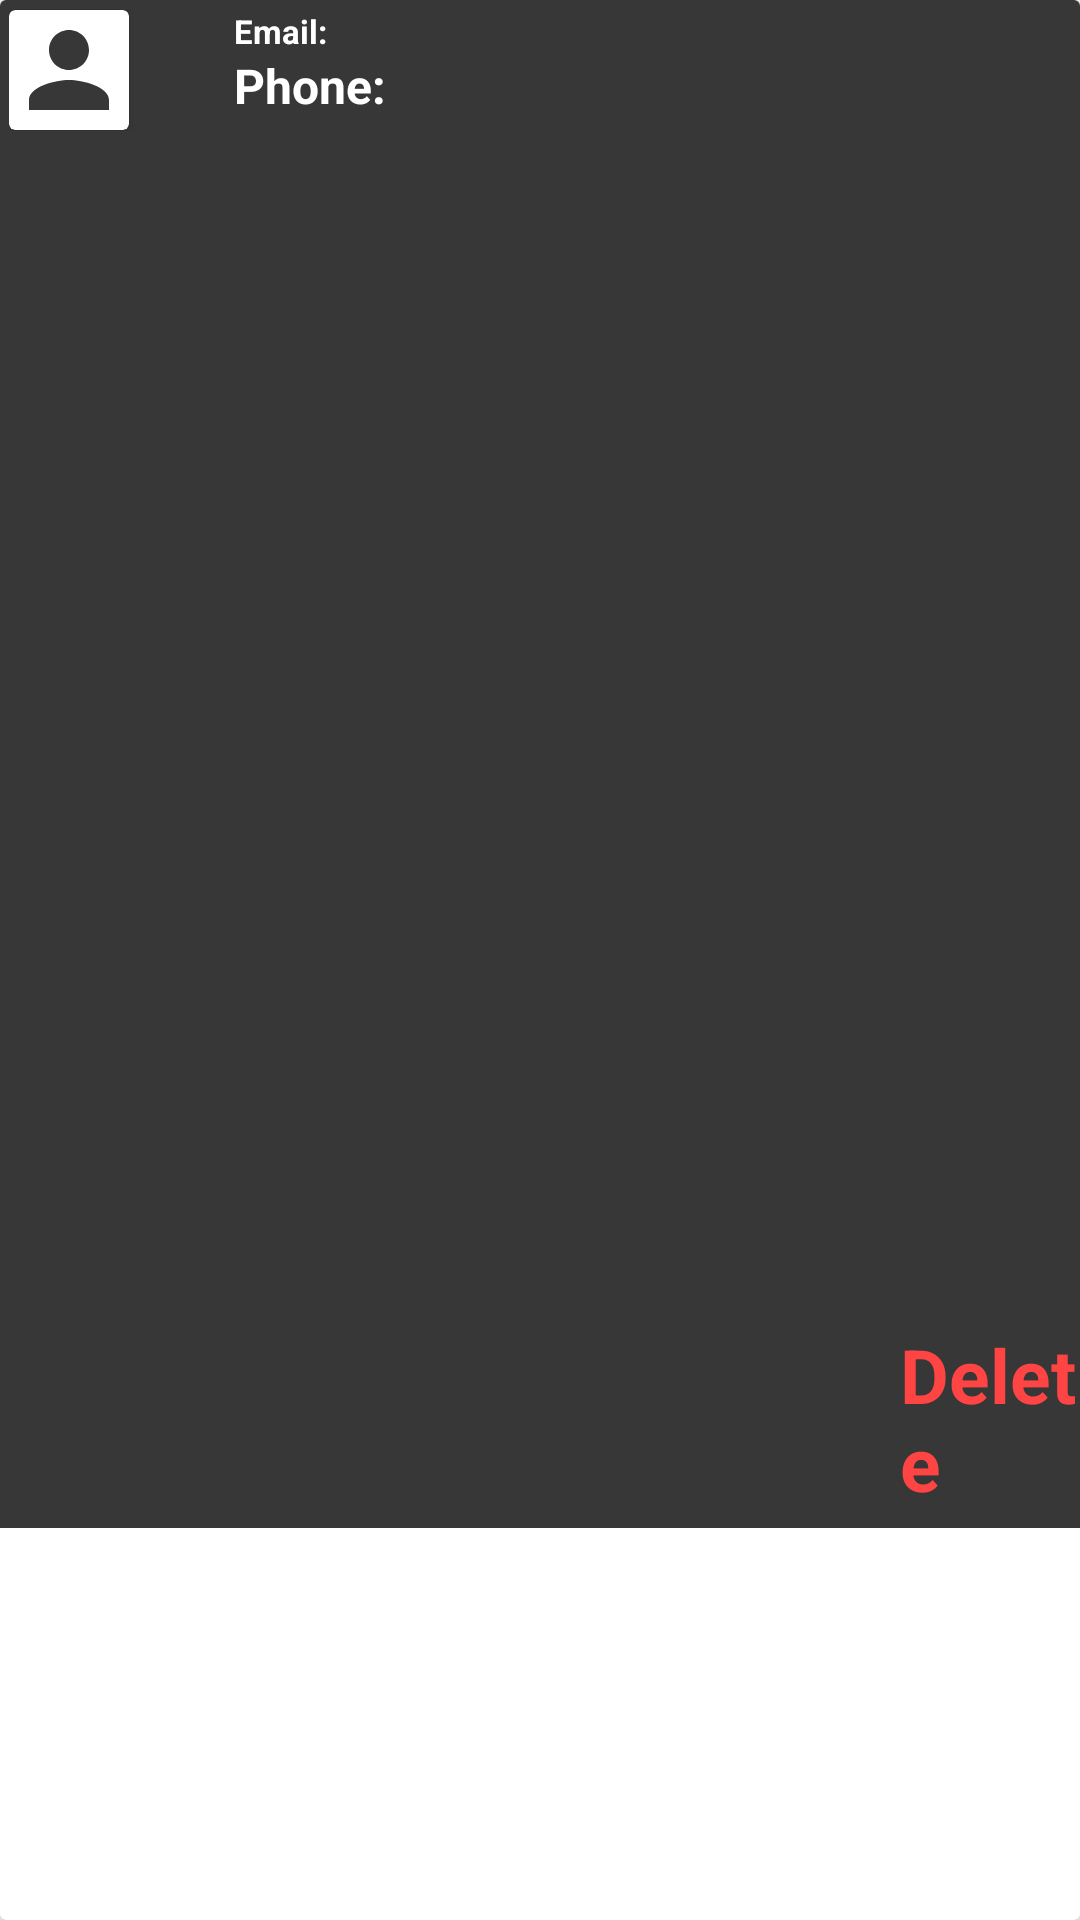

Where to tap for icons on this 1080 x 1920 app screen, as (x,y):
profile unfocused: (69,70)
